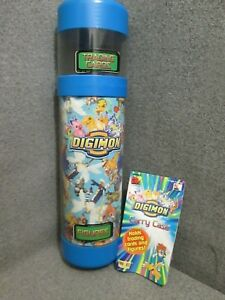bottle: (53, 1, 127, 274)
